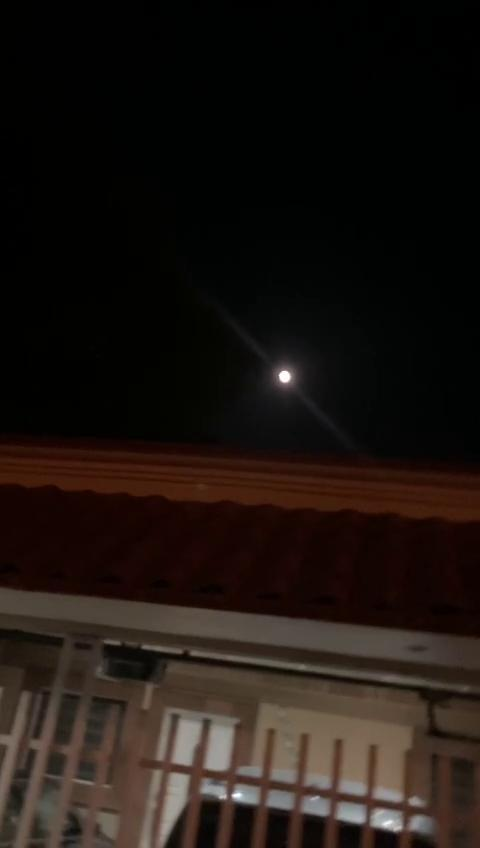moon: (250, 350, 318, 411)
